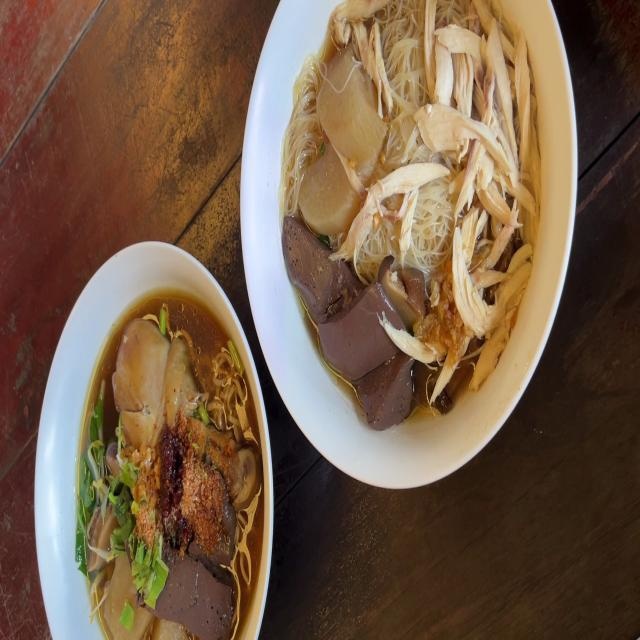boiled_chicken_blood_jelly: (284, 230, 352, 324), (324, 288, 389, 373), (165, 560, 226, 631), (359, 356, 408, 420), (217, 494, 238, 556)
chicken_drumstick: (112, 320, 258, 504)
chicken_shredded: (456, 0, 534, 371), (339, 157, 449, 249), (418, 94, 514, 164), (362, 28, 387, 106), (344, 0, 396, 33)
daikon_radish: (316, 58, 378, 179), (296, 147, 354, 229), (103, 559, 149, 640)
noodle: (268, 0, 561, 435), (79, 294, 248, 640)
